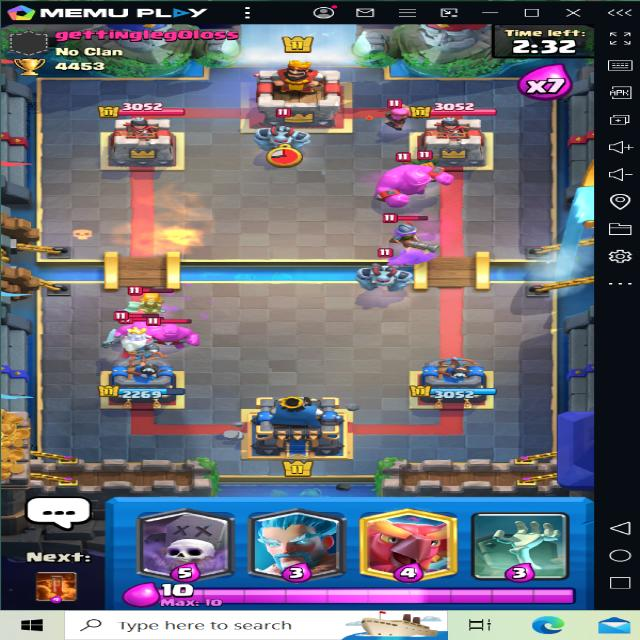dart-goblin: (412, 151, 451, 180)
electro-golem: (368, 162, 456, 206), (152, 314, 208, 350), (101, 313, 157, 338)
firecracker: (362, 94, 419, 125)
mega-minion: (248, 108, 310, 162), (352, 255, 424, 297)
musketeer: (378, 212, 454, 254)
royal-ghost: (114, 324, 158, 358)
valkyrie: (116, 279, 172, 318)
